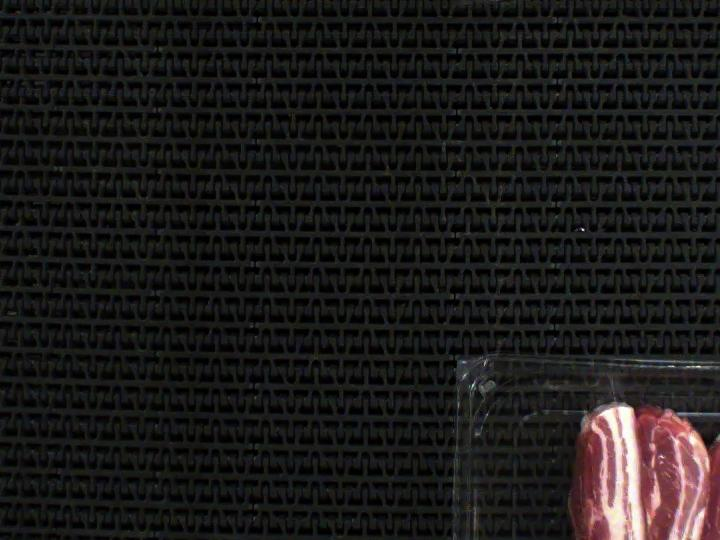packaging-error: (584, 373, 629, 409)
